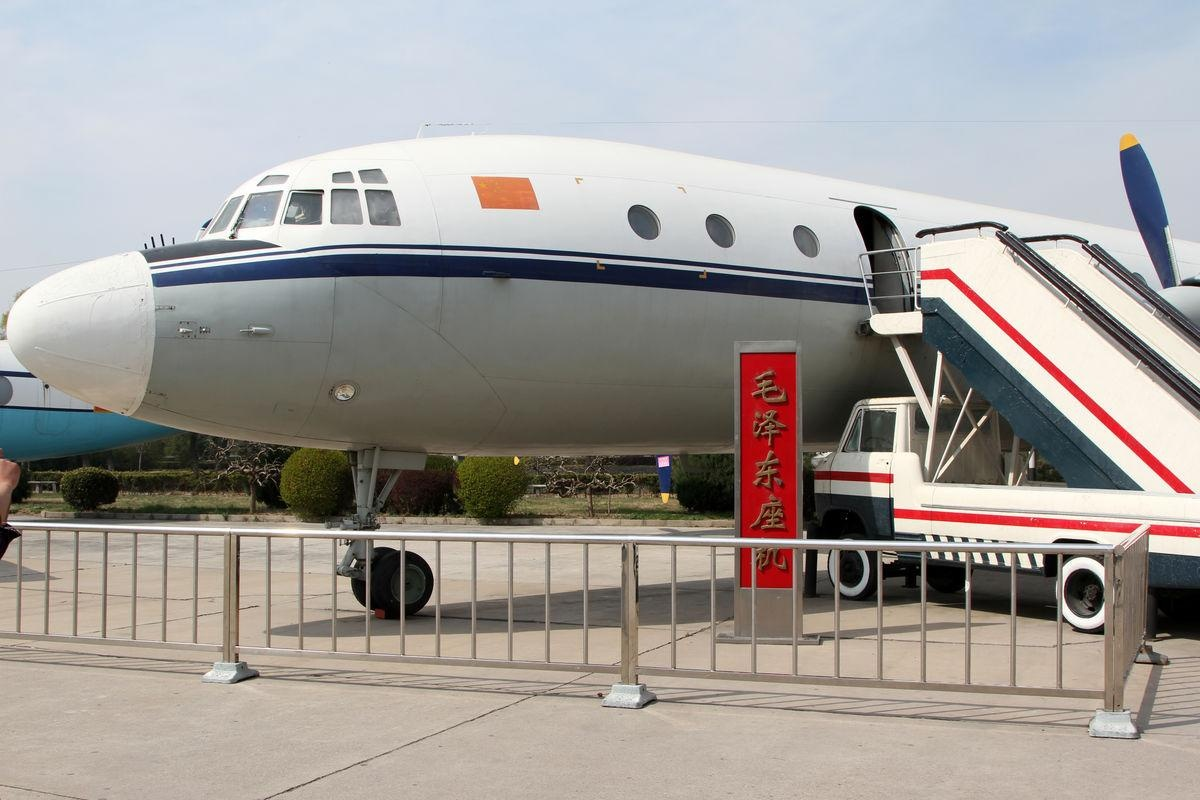airplane: (10, 139, 1200, 485)
